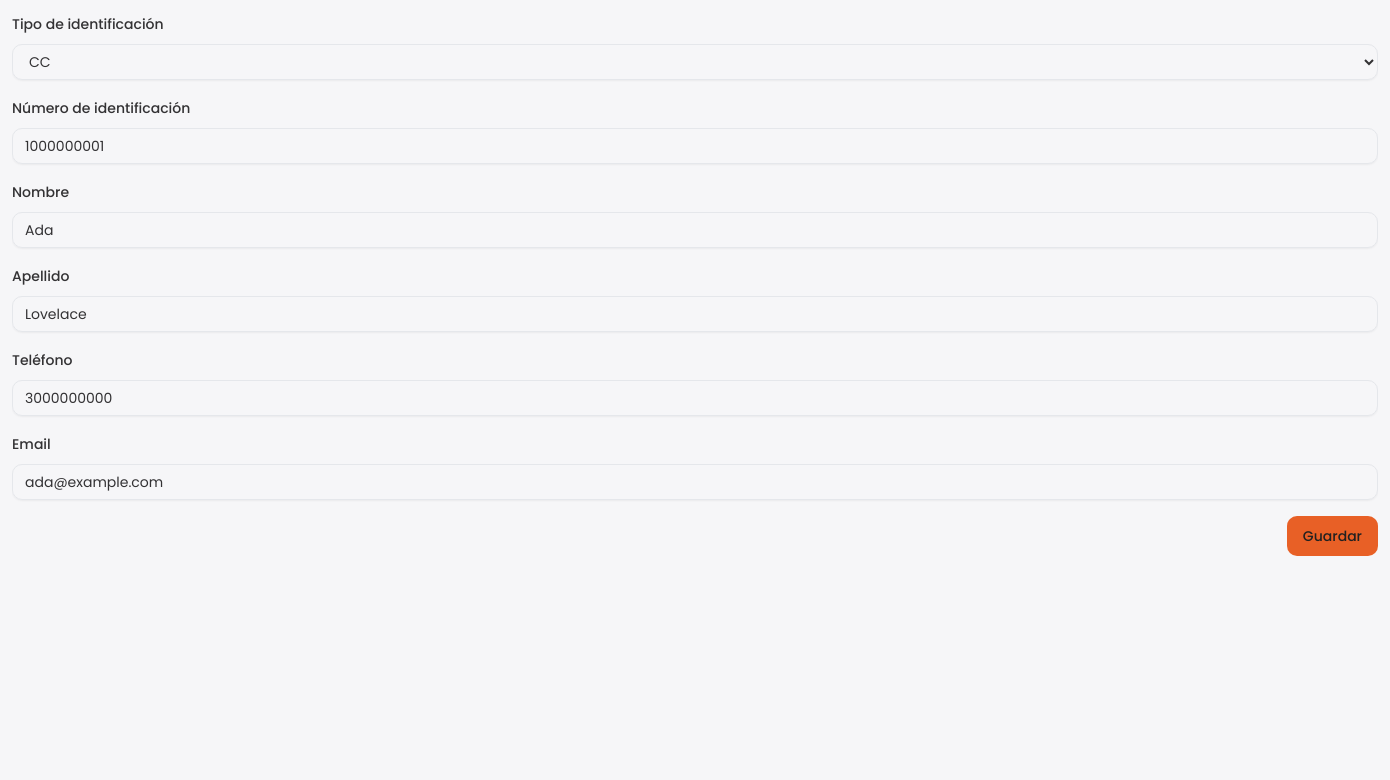
<ClienteDatosTab /> › shows the generic error message for any other submit failure
Step 1. Click the button with test id "cliente-datos-submit" → (1332, 536), box [1287, 516, 1378, 556]
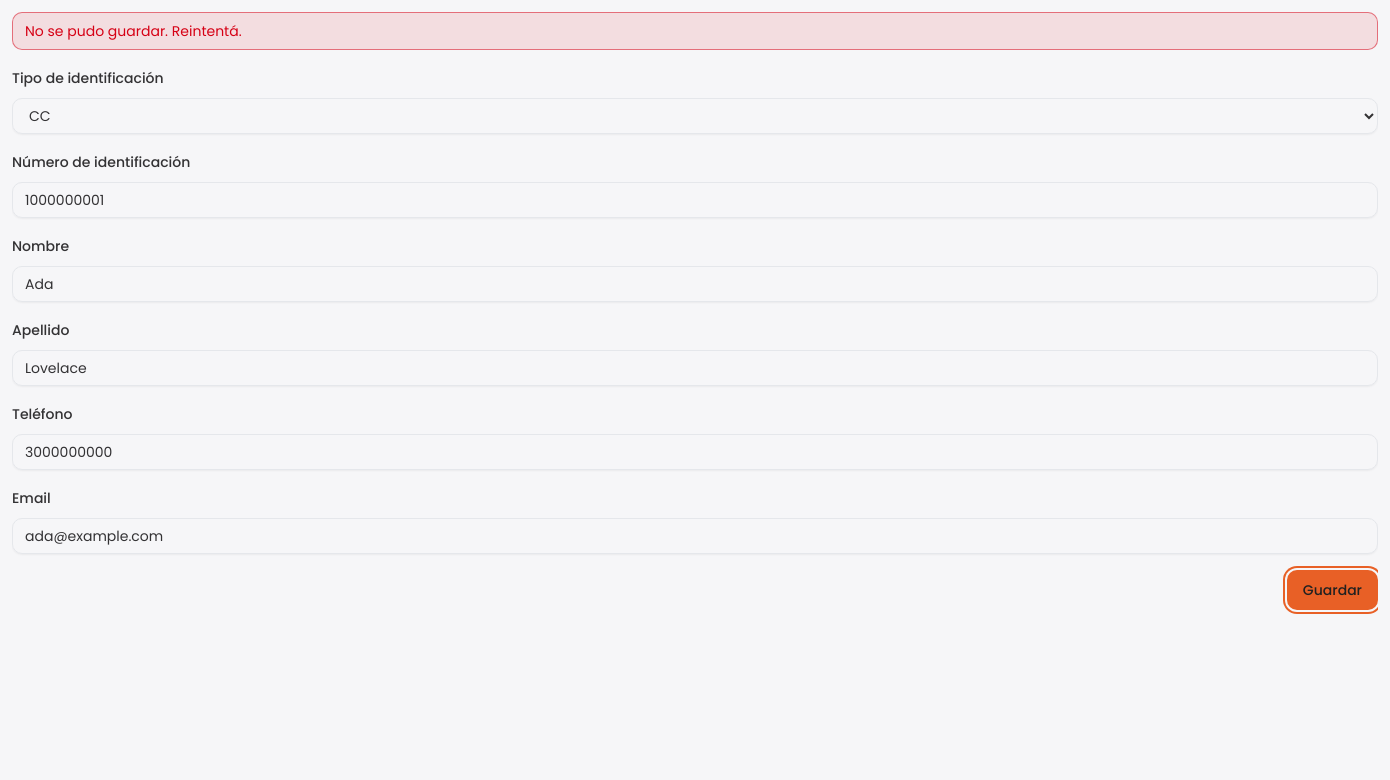
Expected: the message with test id "cliente-datos-submit-error" reads "No se pudo guardar. Reintentá.", [25, 21, 242, 41]
